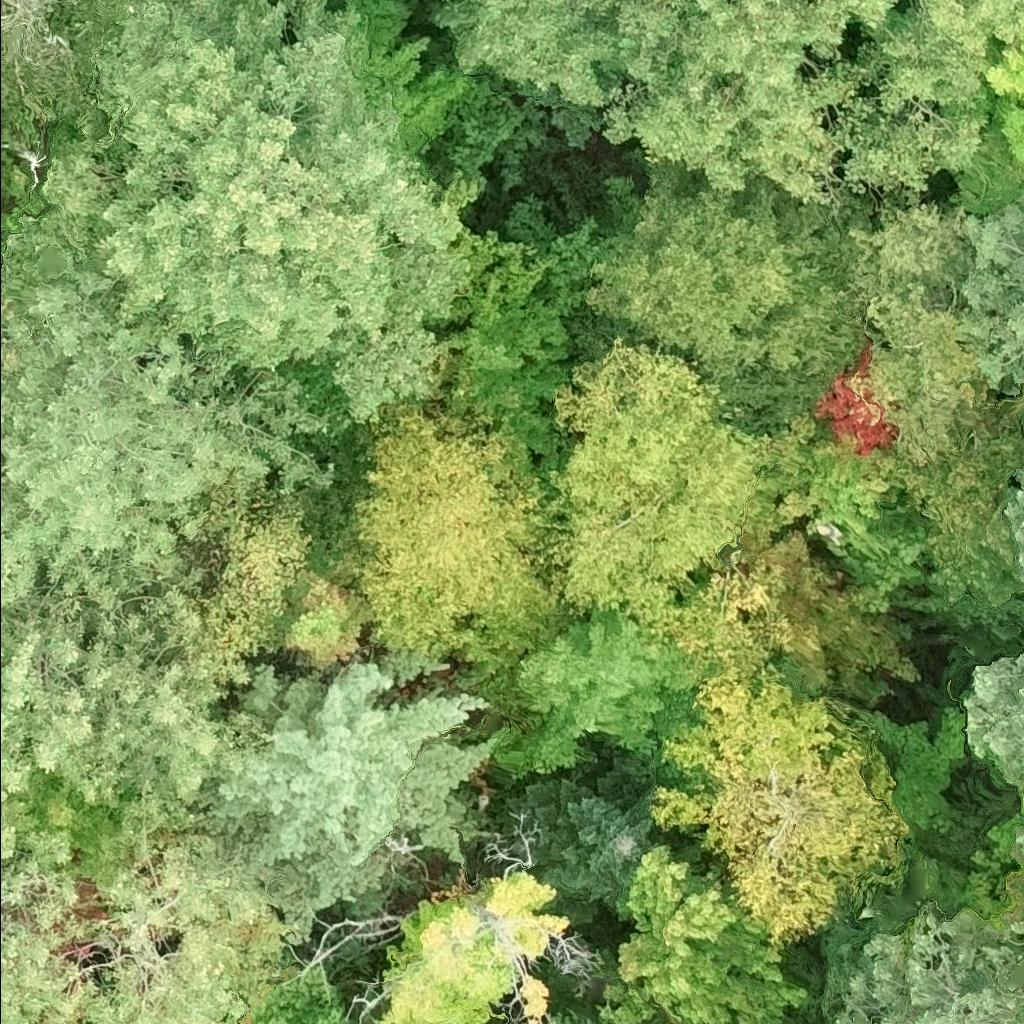crown: (48, 0, 474, 422), (0, 183, 342, 611), (438, 0, 1023, 201), (587, 153, 888, 451), (333, 348, 589, 694), (197, 656, 493, 944), (545, 349, 793, 674), (647, 659, 907, 942), (0, 573, 275, 831), (0, 793, 300, 1023), (765, 337, 936, 613), (482, 604, 729, 766), (599, 841, 807, 1023), (429, 229, 579, 480), (382, 873, 572, 1023), (345, 0, 476, 197), (502, 175, 633, 371), (431, 58, 598, 211), (830, 903, 1023, 1023), (508, 774, 658, 906), (198, 489, 312, 657), (954, 10, 1023, 221), (962, 191, 1023, 392), (0, 0, 103, 116), (264, 549, 361, 668), (309, 914, 408, 1023), (964, 653, 1023, 785), (52, 0, 124, 84), (246, 966, 348, 1023), (1010, 477, 1023, 582), (599, 1011, 670, 1023), (546, 1012, 587, 1023), (1014, 916, 1023, 938), (1020, 832, 1023, 848)
